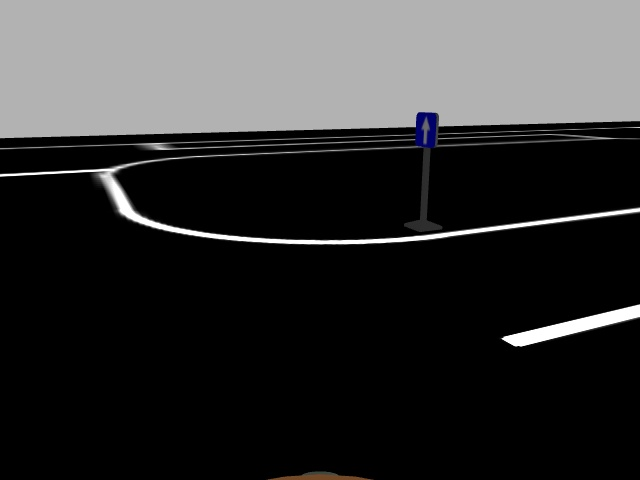oneway: (414, 109, 441, 151)
